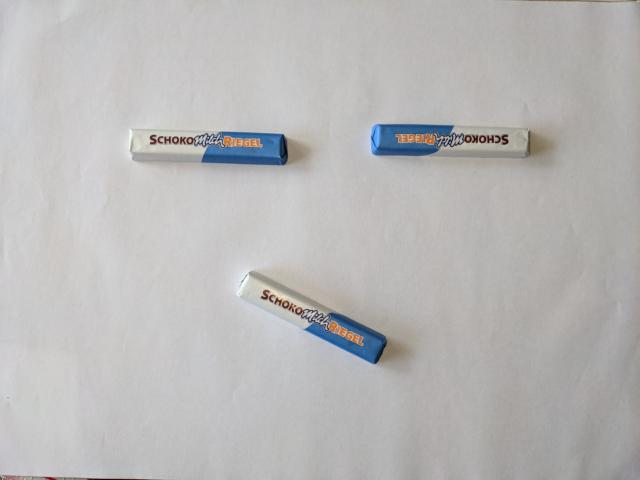Schokoriegel: (231, 267, 390, 366), (124, 124, 290, 169), (368, 121, 533, 162)
